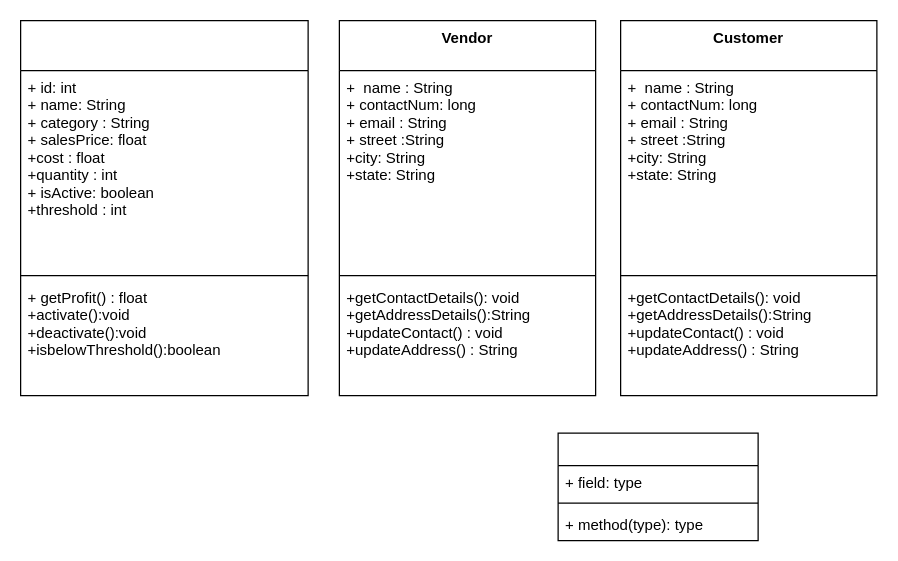
This 898x561 diagram has some shape labels left out. The box of each missing label's shape, as (x1, y1, x2, y2) in pixels:
Order: (557, 432, 758, 541)
Products: (19, 19, 308, 396)
